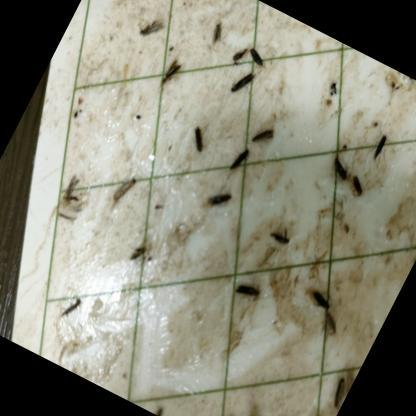prays_oleae: (180, 115, 215, 160), (102, 170, 139, 208), (52, 170, 87, 208), (221, 140, 253, 180), (131, 9, 165, 46), (323, 150, 356, 188), (231, 272, 267, 306), (200, 184, 233, 218), (263, 222, 295, 256), (365, 128, 393, 166), (302, 283, 334, 316), (316, 303, 346, 338), (226, 66, 257, 98), (247, 118, 278, 150), (54, 290, 84, 322), (342, 166, 370, 200), (326, 375, 352, 410), (156, 55, 183, 87), (204, 16, 230, 48), (243, 42, 271, 70), (127, 240, 148, 262)
